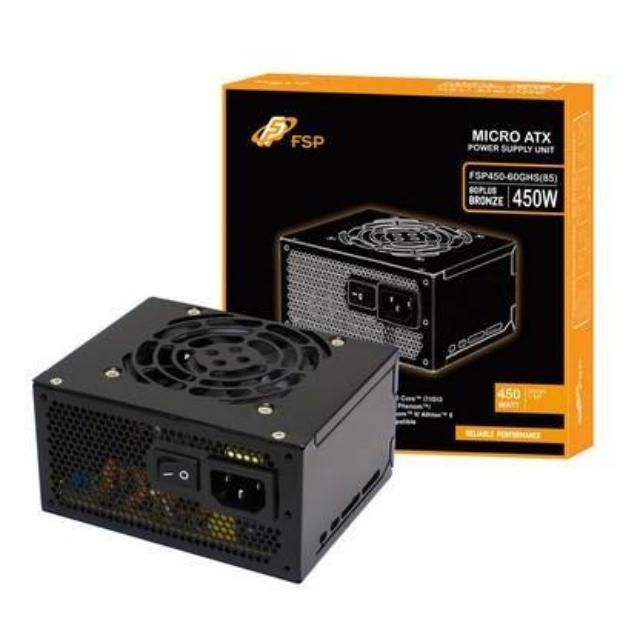PSU: (32, 282, 412, 600)
